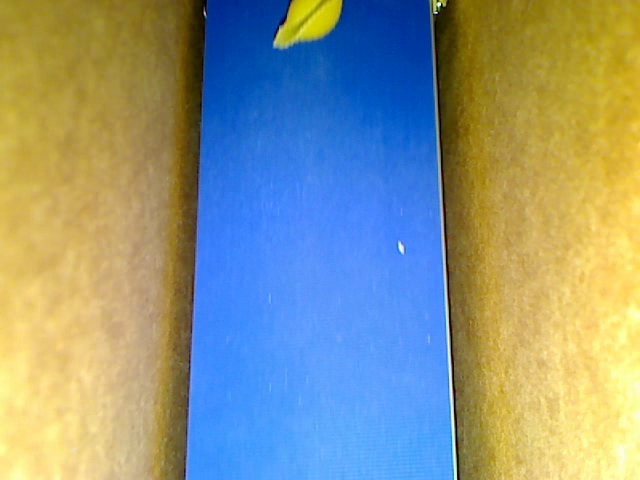shell: (272, 1, 341, 50)
